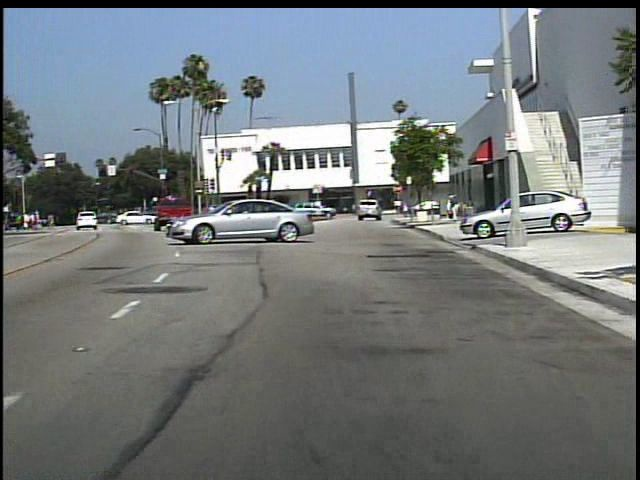person: (447, 191, 462, 227), (445, 195, 455, 224)
